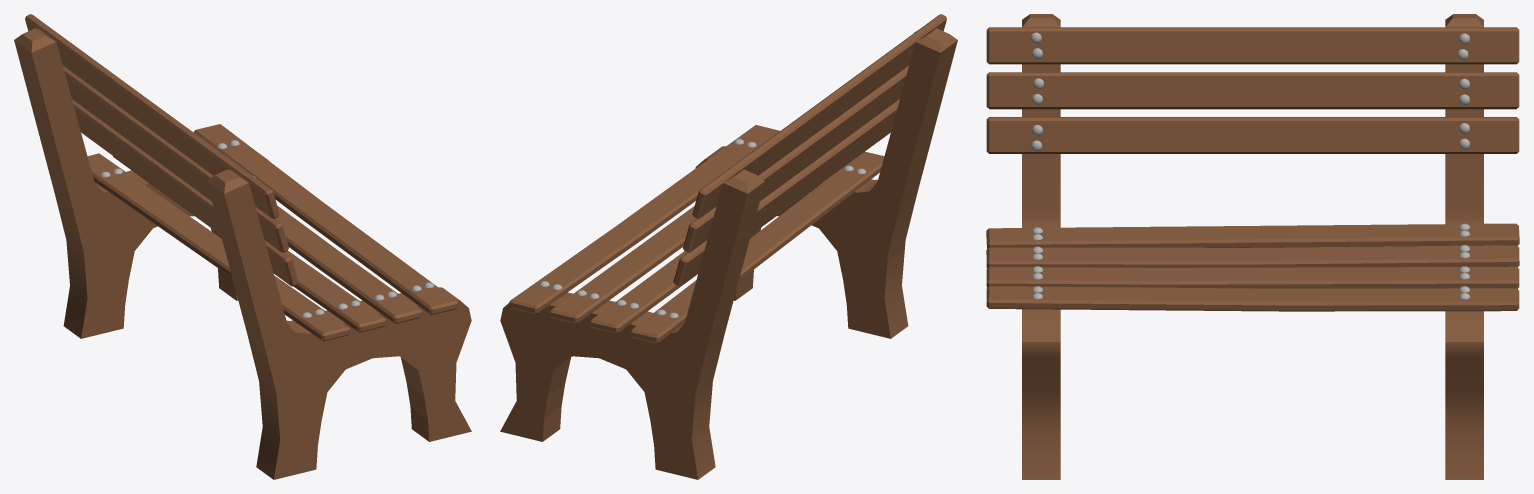
Rendered from bench_low.fbx.
The picture shows the model from 3 angles, left to right: view 1: azimuth 30°, elevation 25°; view 2: azimuth 150°, elevation 25°; view 3: azimuth 270°, elevation 25°; orthographic projection. The views are drawn at different scales.
Parts seen in each view (by area): view 1: bench_lod1; view 2: bench_lod1; view 3: bench_lod1.
Boxes of the visible parts, x1=… form: bench_lod1: x1=14, y1=14, x2=471, y2=479; bench_lod1: x1=500, y1=14, x2=957, y2=479; bench_lod1: x1=986, y1=14, x2=1519, y2=479.
Bounding box in the file's own units: 378 × 449 × 641.
